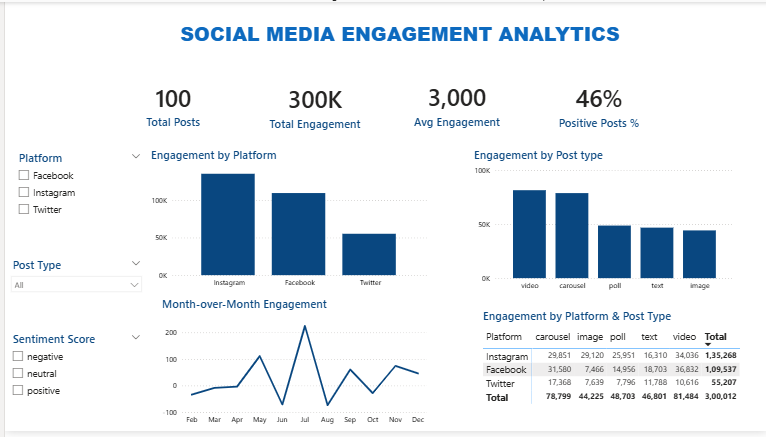

What the dashboard file says about the page in this screenshot:
{"tool":"powerbi","page":{"name":"Page 1","canvas":[1280,720],"ordinal":0},"visuals":[{"type":"card","fields":{"Values":["public social_media_engagement.total posts"]},"box":[162.9,114.2,239.3,116.7],"z":0,"group":"g1"},{"type":"card","fields":{"Values":["public social_media_engagement.total engagement"]},"box":[400.9,118.9,238.7,111.4],"z":1000,"group":"g1"},{"type":"columnChart","title":"Engagement by Platform","fields":{"Category":["public social_media_engagement.platform"],"Y":["public social_media_engagement.total engagement"]},"box":[240.2,243.6,473.7,245.2],"z":1000},{"type":"card","fields":{"Values":["public social_media_engagement.avg"]},"box":[640,114.2,238.5,115.3],"z":2000,"group":"g1"},{"type":"clusteredColumnChart","title":"Engagement by Post type","fields":{"Category":["public social_media_engagement.post_type"],"Y":["public social_media_engagement.total engagement"]},"box":[782.8,243.6,446.8,250.3],"z":2000},{"type":"card","fields":{"Values":["public social_media_engagement.positive"]},"box":[878.5,114.2,238.5,117.6],"z":3000,"group":"g1"},{"type":"slicer","fields":{"Values":["public social_media_engagement.platform"]},"box":[10.1,243.6,230.1,126],"z":3000},{"type":"pivotTable","title":"Engagement by Platform & Post Type","fields":{"Rows":["public social_media_engagement.platform"],"Columns":["public social_media_engagement.post_type"],"Values":["public social_media_engagement.total engagement"]},"box":[797.9,514,445.1,183.1],"z":4000},{"type":"slicer","fields":{"Values":["public social_media_engagement.post_type"]},"box":[0,423.3,240.2,72.2],"z":5000},{"type":"slicer","fields":{"Values":["public social_media_engagement.sentiment_score"]},"box":[0,548.3,240,150],"z":6000},{"type":"lineChart","title":"Month-over-Month Engagement","fields":{"Category":["Calendar.Month"],"Y":["public social_media_engagement.MoM%"]},"box":[258.7,493.9,455.2,225.1],"z":7000},{"type":"textbox","box":[60.5,25.2,1206.1,85.7],"z":8000},{"type":"group","id":"g1","title":"Group 1","box":[162.9,114.2,954.1,117.6],"z":8001}]}

Visuals, with their boxes in screenshot pixels (x1, y1, x2, y2), scaled from the page's 1280x720 canvas onto the 766x437 screenshot:
card - public social_media_engagement.total posts: <region>97, 69, 241, 140</region>
card - public social_media_engagement.total engagement: <region>240, 72, 383, 140</region>
"Engagement by Platform" columnChart: <region>144, 148, 427, 297</region>
card - public social_media_engagement.avg: <region>383, 69, 526, 139</region>
"Engagement by Post type" clusteredColumnChart: <region>468, 148, 736, 300</region>
card - public social_media_engagement.positive: <region>526, 69, 668, 141</region>
slicer - public social_media_engagement.platform: <region>6, 148, 144, 224</region>
"Engagement by Platform & Post Type" pivotTable: <region>477, 312, 744, 423</region>
slicer - public social_media_engagement.post_type: <region>0, 257, 144, 301</region>
slicer - public social_media_engagement.sentiment_score: <region>0, 333, 144, 424</region>
"Month-over-Month Engagement" lineChart: <region>155, 300, 427, 436</region>
textbox: <region>36, 15, 758, 67</region>
"Group 1" group: <region>97, 69, 668, 141</region>
